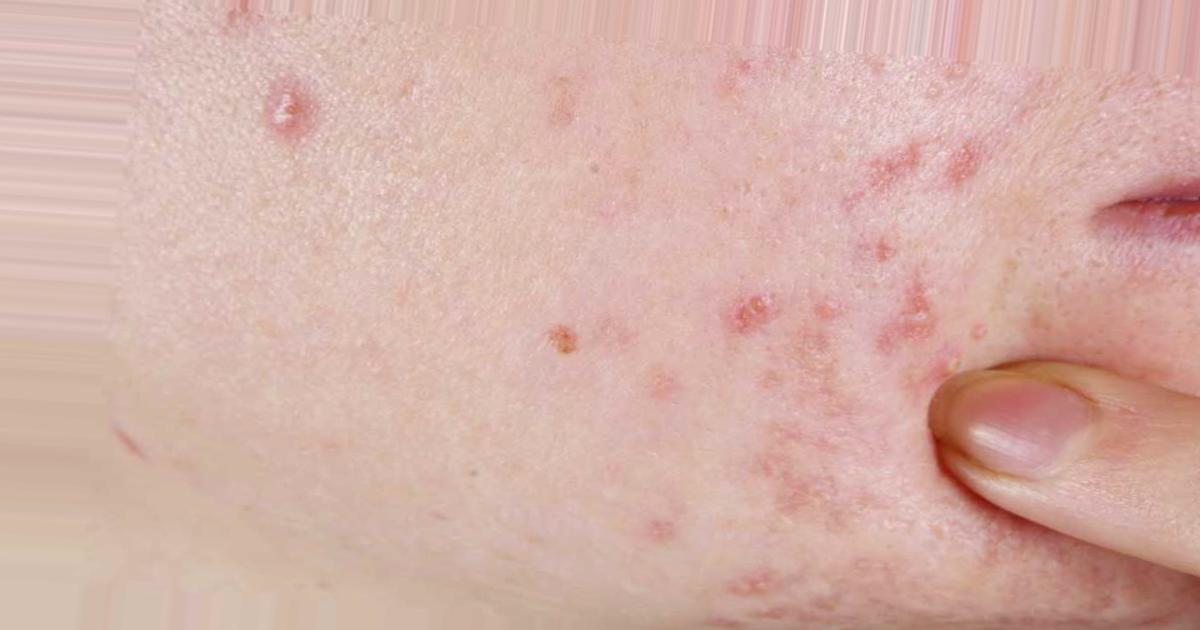Acne: (869, 237, 938, 352), (705, 275, 790, 338), (949, 133, 1018, 204), (863, 125, 930, 194), (249, 79, 320, 142), (547, 305, 594, 380), (643, 497, 692, 557)
